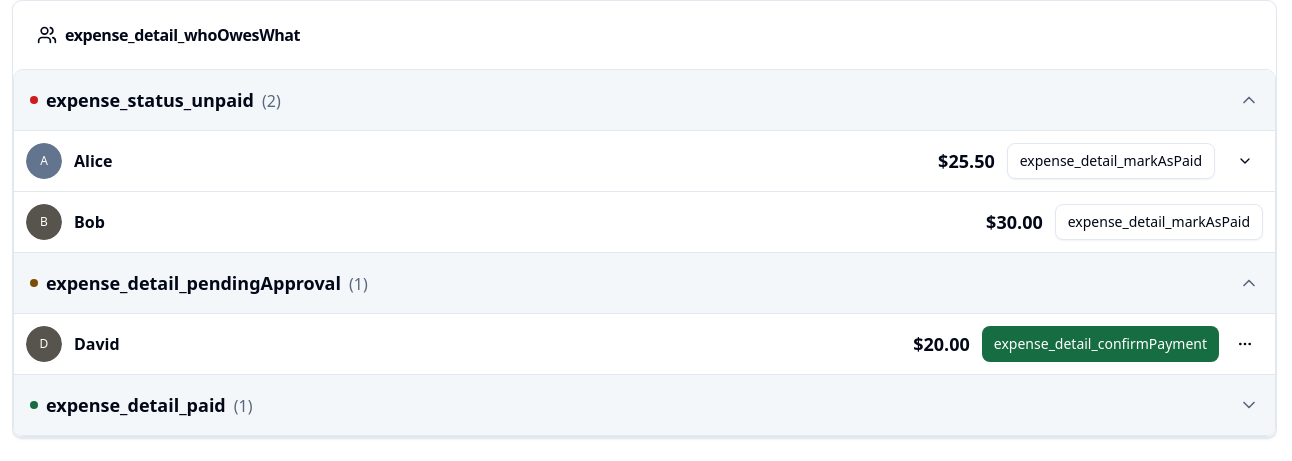
Test case: ExpenseParticipants › shows view payment proof option when pending claim has proof
Expected: the text "David" is shown, [74,333,120,355]
Click the button named "More actions".
click(1245, 344)  # box [1227,326,1263,362]
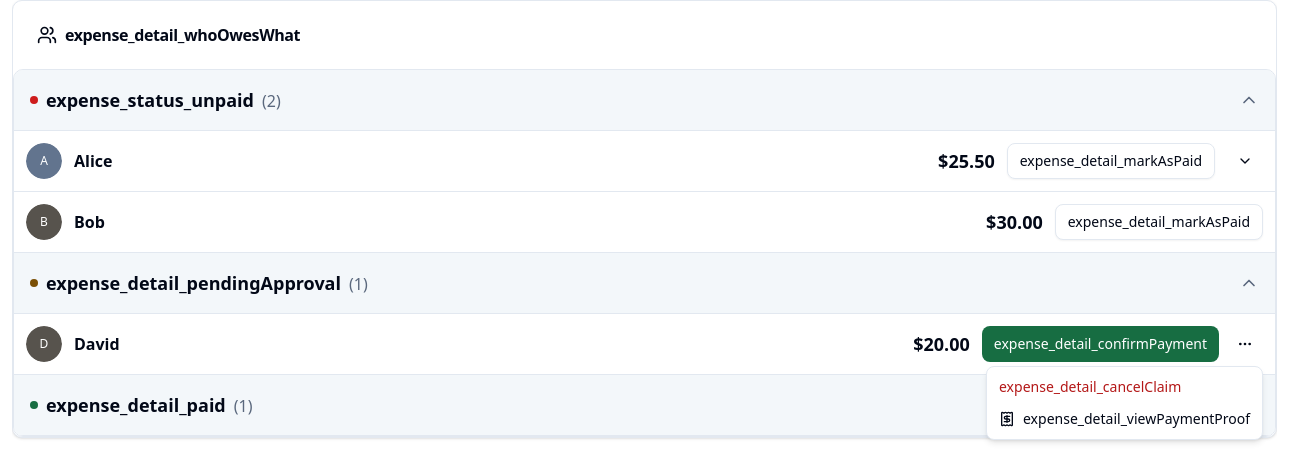
Result: the menu item "expense_detail_viewPaymentProof" is shown at [999,409,1250,428]
